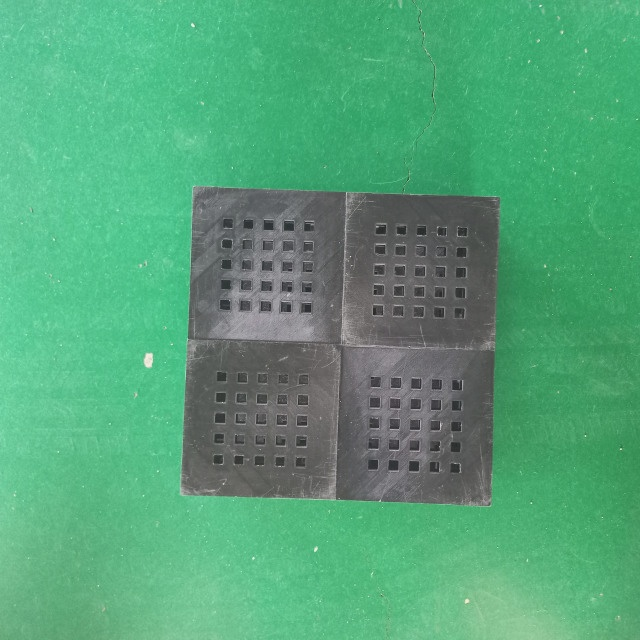pallet: (177, 185, 503, 508)
